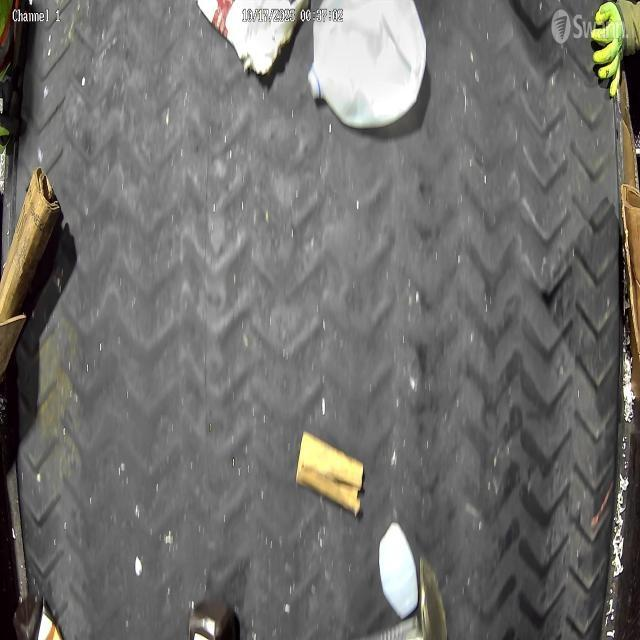milk_jug: (308, 2, 429, 130)
non_white_jug: (14, 593, 64, 640)
